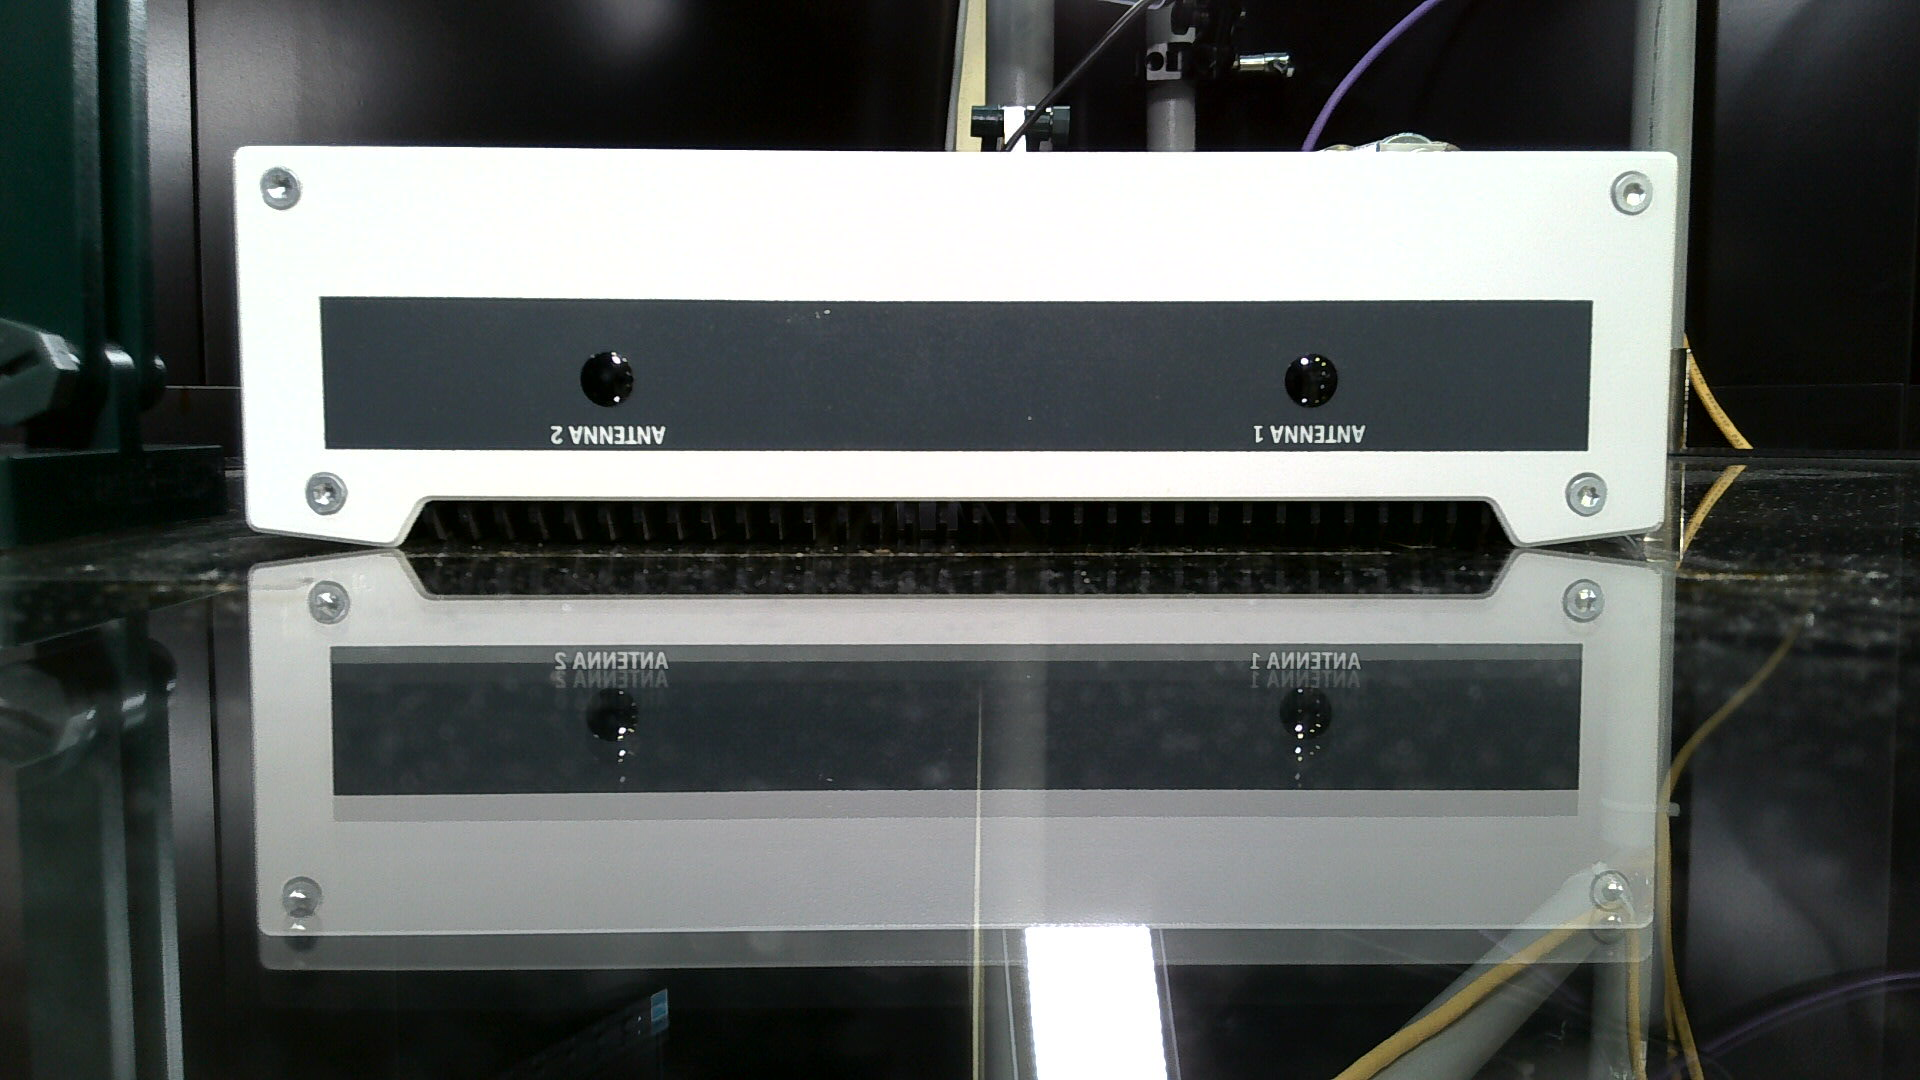CamBack: (191, 109, 1714, 553)
Schraube_gespiegelt: (274, 870, 331, 959), (1582, 862, 1638, 952), (299, 574, 363, 650), (1555, 572, 1611, 645)
Schraube_halb: (251, 157, 316, 222), (1555, 463, 1615, 526), (1600, 162, 1658, 222), (298, 465, 353, 527)
